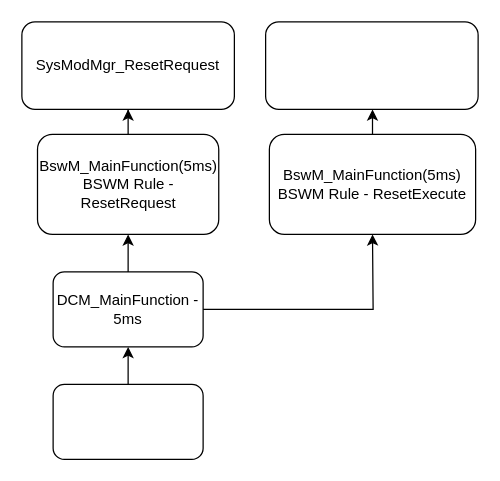
Some shapes in this 500 by 481 pixel diagram are drawn without their labels. The centre of each missing label's shape, as x and y in pixels:
"CAN" goes at pixel 127 421.
"ResetDrvr_ForceReset" goes at pixel 371 65.
